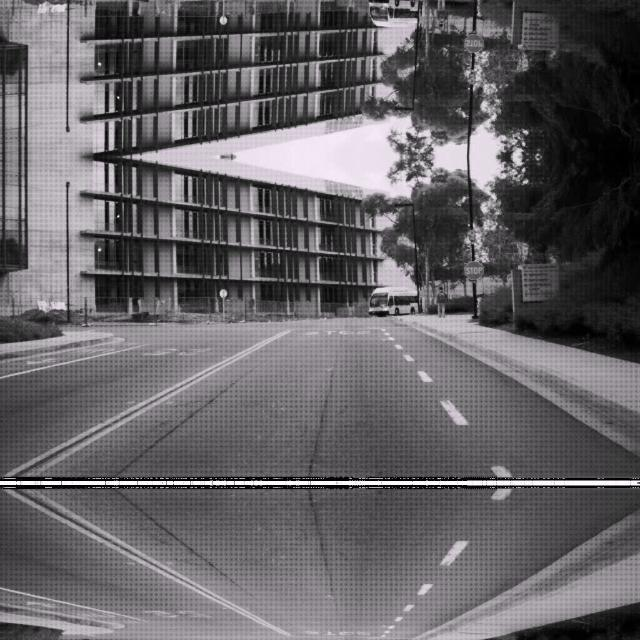stop: (463, 259, 483, 279), (463, 33, 483, 53)
